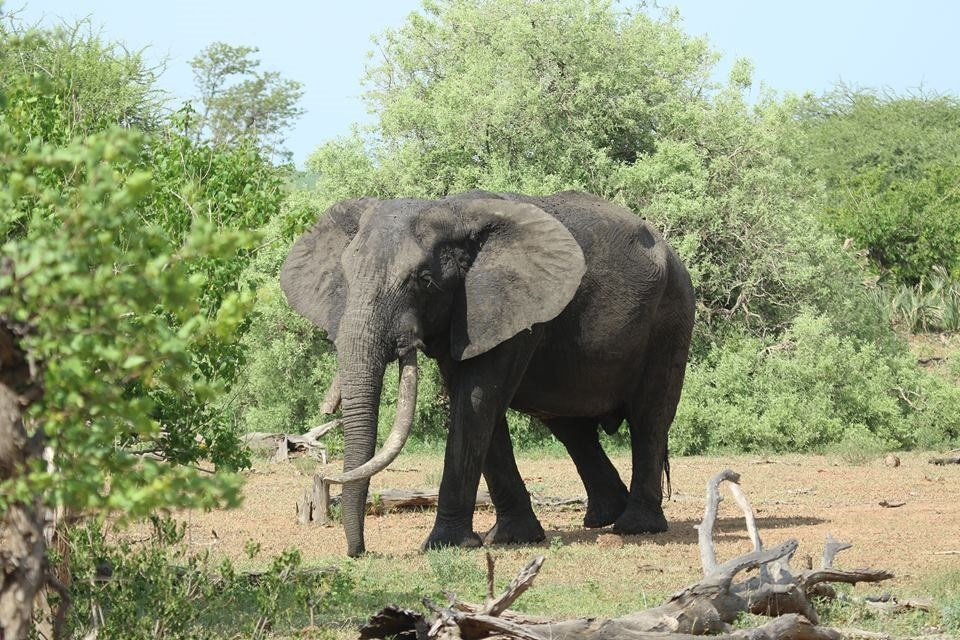elephant: (278, 185, 699, 544)
